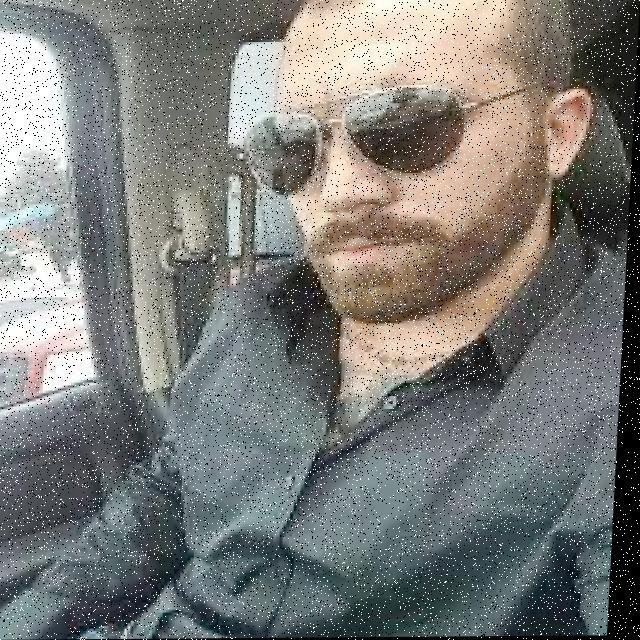noSeatbelt: (144, 282, 628, 639)
